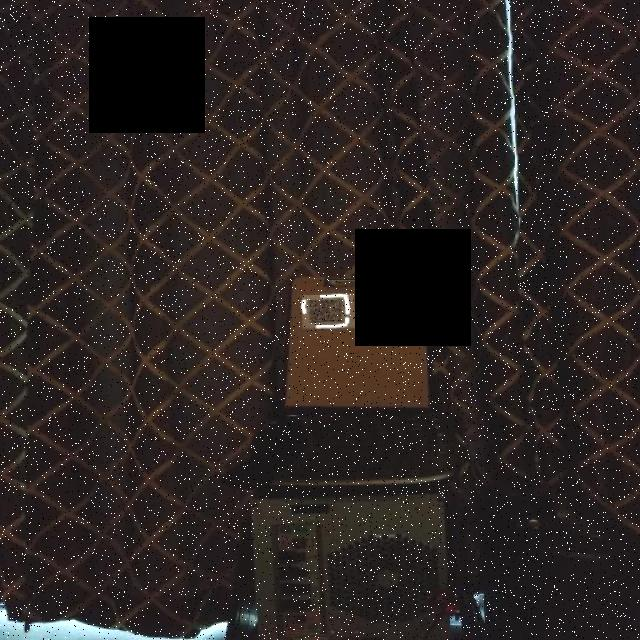QR_CODE: (306, 291, 352, 330), (366, 294, 396, 318), (359, 320, 390, 341)
